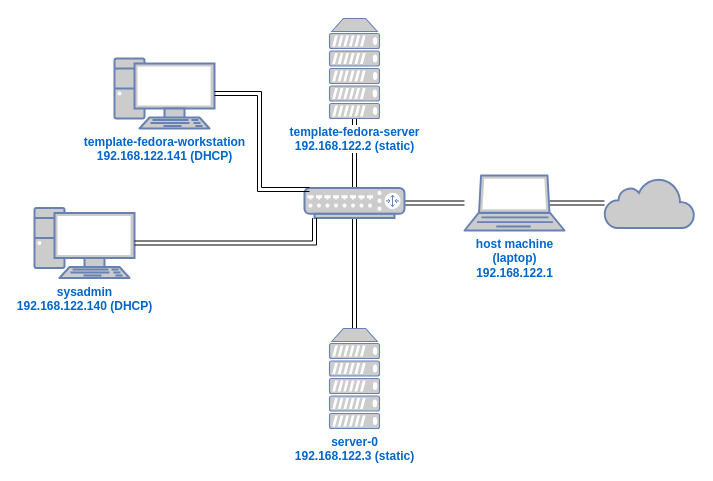
This 713x481 diagram has some shape labels left out. The box of each missing label's shape, as (x1, y1, x2, y2) in pixels:
default NAT mode (virbr0) 192.168.122.0/24: (303, 186, 405, 218)
Internet: (603, 176, 695, 228)
